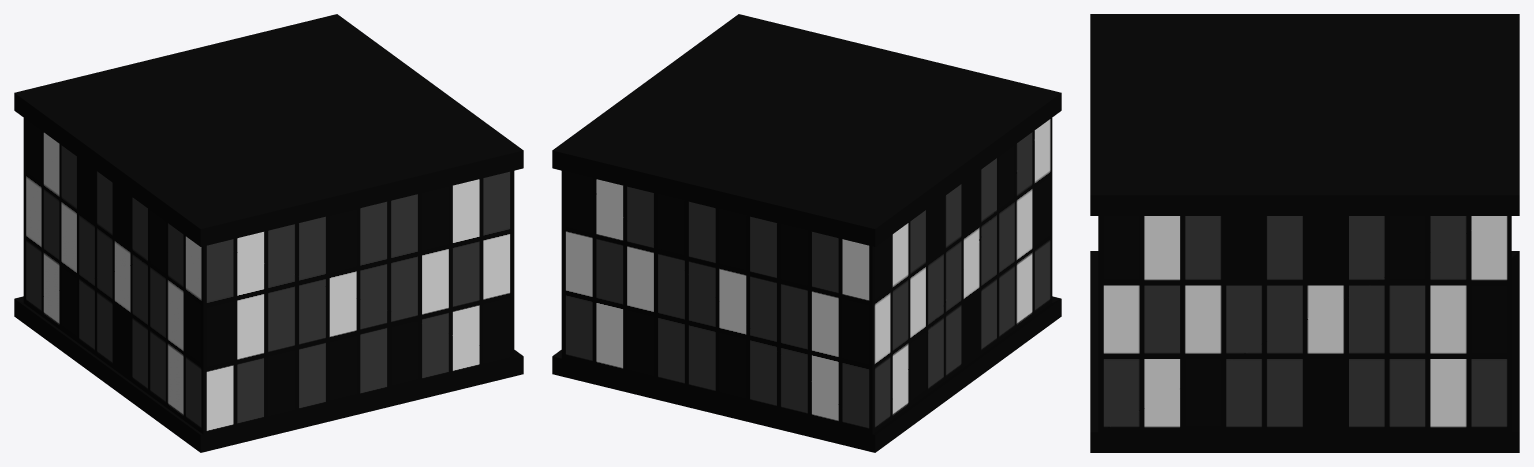
The model's file is Skyscrapper.fbx.
3 renders of one model, left to right at view 1: azimuth 30°, elevation 25°; view 2: azimuth 150°, elevation 25°; view 3: azimuth 270°, elevation 25°, orthographic. The views are drawn at different scales.
Visible parts, largest first — view 1: pCube2; view 2: pCube2; view 3: pCube2.
Part boxes in pixels (x1,y1,x2,y2): pCube2: (14, 14, 523, 452); pCube2: (552, 14, 1061, 452); pCube2: (1090, 14, 1519, 452).
Bounding box in the file's own units: 1449 × 960 × 1449.
